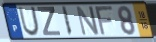8: (117, 5, 137, 37)
F: (94, 5, 115, 37)
I: (60, 5, 74, 37)
N: (75, 5, 101, 37)
U: (17, 6, 41, 37)
Z: (36, 6, 62, 37)
